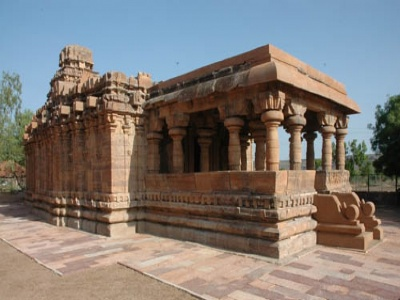mandapa: (136, 58, 360, 178)
